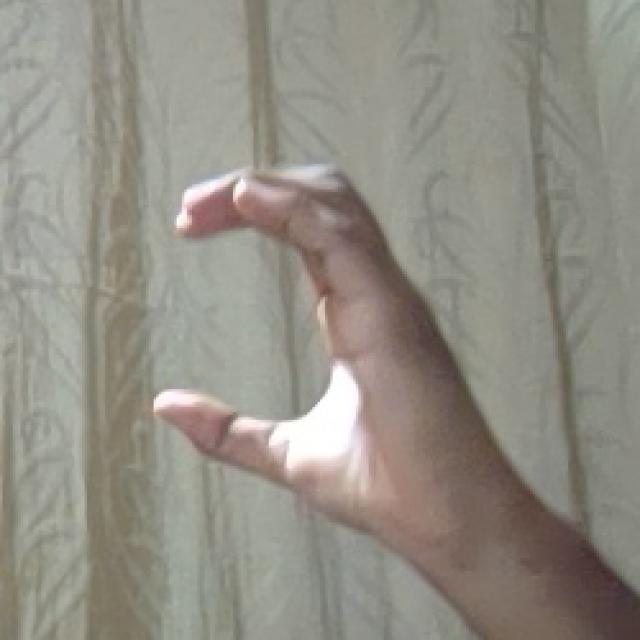Alphabet-C: (157, 166, 640, 640)
